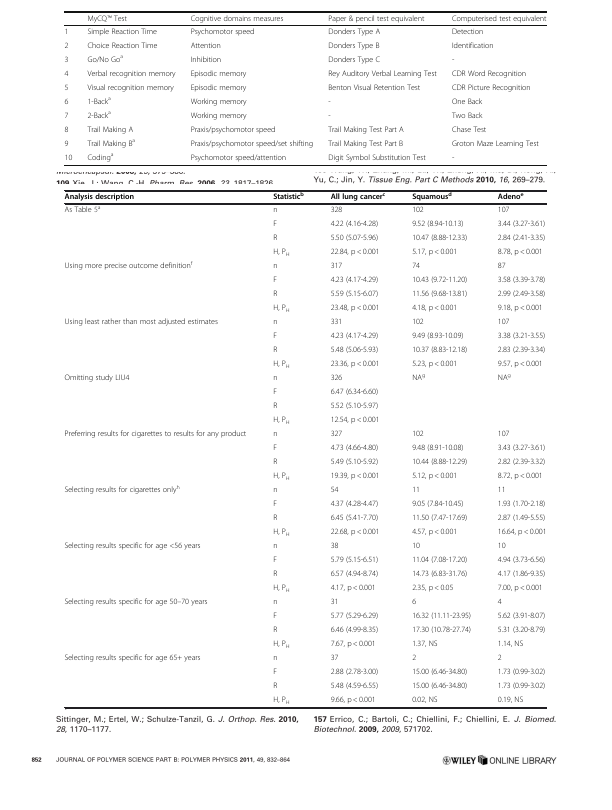borderless: (63, 189, 546, 707), (64, 10, 547, 165)
cell: (64, 430, 247, 440), (64, 318, 219, 328), (64, 260, 193, 272), (64, 598, 208, 608), (64, 484, 181, 496), (64, 542, 201, 552), (64, 654, 201, 664), (190, 139, 314, 149), (327, 69, 438, 79), (327, 153, 427, 163), (190, 153, 287, 163), (327, 83, 421, 93), (86, 69, 176, 79), (86, 83, 175, 93), (451, 139, 540, 149), (327, 14, 425, 23), (451, 14, 547, 23), (190, 125, 276, 135), (190, 14, 284, 23), (451, 83, 532, 93), (327, 125, 405, 135), (327, 139, 404, 149), (451, 69, 527, 79), (86, 27, 158, 37), (86, 41, 158, 51), (64, 374, 130, 384), (190, 27, 255, 37), (64, 193, 135, 202), (330, 191, 386, 202), (411, 612, 472, 622), (411, 626, 472, 636), (86, 137, 136, 149), (190, 97, 248, 107), (190, 111, 248, 121), (411, 234, 468, 244), (411, 276, 468, 286), (411, 290, 468, 300), (411, 346, 468, 356), (411, 458, 468, 468), (411, 514, 468, 524), (411, 556, 468, 566), (411, 570, 468, 580), (411, 668, 468, 678), (411, 682, 468, 692), (190, 69, 247, 79), (190, 83, 247, 93), (327, 27, 381, 37), (327, 55, 381, 65), (411, 220, 464, 230), (411, 332, 464, 342), (411, 444, 464, 454), (411, 500, 464, 510), (327, 41, 380, 51), (330, 248, 380, 258), (330, 304, 380, 314), (330, 360, 380, 370), (330, 416, 380, 426), (330, 472, 380, 482), (330, 528, 380, 538), (497, 528, 547, 538), (330, 220, 379, 230), (497, 220, 546, 230), (330, 234, 379, 244), (497, 234, 546, 244), (330, 276, 379, 286), (497, 276, 546, 286), (330, 290, 379, 300), (497, 290, 546, 300), (330, 332, 379, 342), (497, 332, 546, 342), (330, 346, 379, 356), (497, 346, 546, 356), (330, 388, 379, 398), (330, 402, 379, 412), (330, 444, 379, 454), (497, 444, 546, 454), (330, 458, 379, 468), (497, 458, 546, 468), (330, 500, 379, 510), (497, 500, 546, 510), (330, 514, 379, 524), (497, 514, 546, 524), (330, 556, 379, 566), (497, 556, 546, 566), (330, 570, 379, 580), (497, 570, 546, 580), (330, 612, 379, 622), (497, 612, 546, 622), (330, 626, 379, 636), (497, 626, 546, 636), (330, 668, 379, 678), (497, 668, 546, 678), (330, 682, 379, 692), (497, 682, 546, 692), (86, 125, 134, 135), (411, 248, 458, 258), (497, 248, 544, 258), (411, 304, 458, 314), (497, 304, 544, 314), (411, 360, 458, 370), (497, 360, 544, 370), (411, 472, 458, 482), (497, 472, 544, 482), (411, 528, 458, 538), (330, 584, 377, 594), (497, 584, 544, 594), (330, 640, 377, 650), (330, 696, 377, 706), (411, 191, 453, 202), (86, 53, 124, 65), (64, 204, 101, 216), (411, 584, 454, 594), (451, 41, 494, 51), (86, 14, 128, 23), (272, 191, 305, 202), (451, 125, 487, 135), (86, 151, 114, 163), (451, 27, 484, 37), (190, 41, 222, 51), (190, 55, 222, 65), (451, 97, 483, 107), (451, 111, 483, 121), (86, 95, 112, 107), (86, 109, 112, 121), (497, 191, 524, 202), (411, 640, 438, 650), (497, 640, 524, 650), (411, 696, 438, 706), (497, 696, 524, 706), (272, 248, 291, 258), (272, 304, 291, 314), (272, 360, 291, 370), (272, 416, 291, 426), (272, 472, 291, 482), (272, 528, 291, 538), (272, 584, 291, 594), (272, 640, 291, 650), (272, 696, 291, 706), (411, 372, 426, 384), (497, 372, 512, 384), (411, 206, 425, 216), (411, 318, 425, 328), (411, 430, 425, 440), (330, 206, 343, 216), (497, 206, 510, 216), (330, 262, 343, 272), (330, 318, 343, 328), (497, 318, 510, 328), (330, 374, 343, 384), (330, 430, 343, 440), (497, 430, 510, 440), (411, 262, 421, 272), (411, 486, 421, 496), (411, 542, 421, 552), (497, 262, 506, 272), (330, 486, 339, 496), (497, 486, 506, 496), (330, 542, 339, 552), (497, 542, 506, 552), (330, 598, 339, 608), (330, 654, 339, 664), (64, 153, 73, 163), (272, 206, 278, 216), (272, 220, 278, 230), (272, 234, 278, 244), (272, 262, 278, 272), (272, 276, 278, 286), (272, 290, 278, 300), (272, 318, 278, 328), (272, 332, 278, 342), (272, 346, 278, 356), (272, 374, 278, 384), (272, 388, 278, 398), (272, 402, 278, 412), (272, 430, 278, 440), (272, 444, 278, 454), (272, 458, 278, 468), (272, 486, 278, 496), (272, 500, 278, 510), (272, 514, 278, 524), (272, 542, 278, 552), (272, 556, 278, 566), (272, 570, 278, 580), (272, 598, 278, 608), (411, 598, 417, 608), (497, 598, 503, 608), (272, 612, 278, 622), (272, 626, 278, 636), (272, 654, 278, 664), (411, 654, 417, 664), (497, 654, 503, 664), (272, 668, 278, 678), (272, 682, 278, 692), (63, 27, 69, 37), (63, 41, 69, 51), (63, 55, 69, 65), (64, 69, 69, 79), (64, 83, 69, 93), (64, 97, 69, 107), (327, 97, 332, 107), (64, 111, 69, 121), (327, 111, 332, 121), (64, 125, 69, 135), (64, 139, 69, 149), (451, 55, 455, 65), (451, 153, 455, 163)
